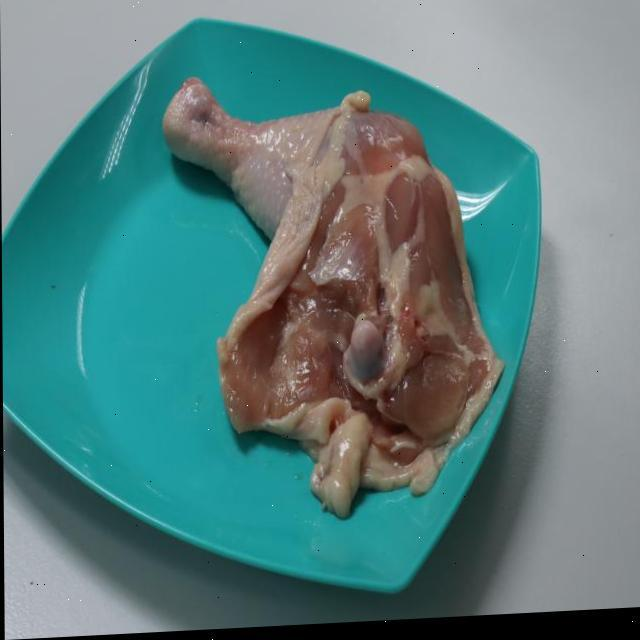quater: (154, 65, 492, 488)
